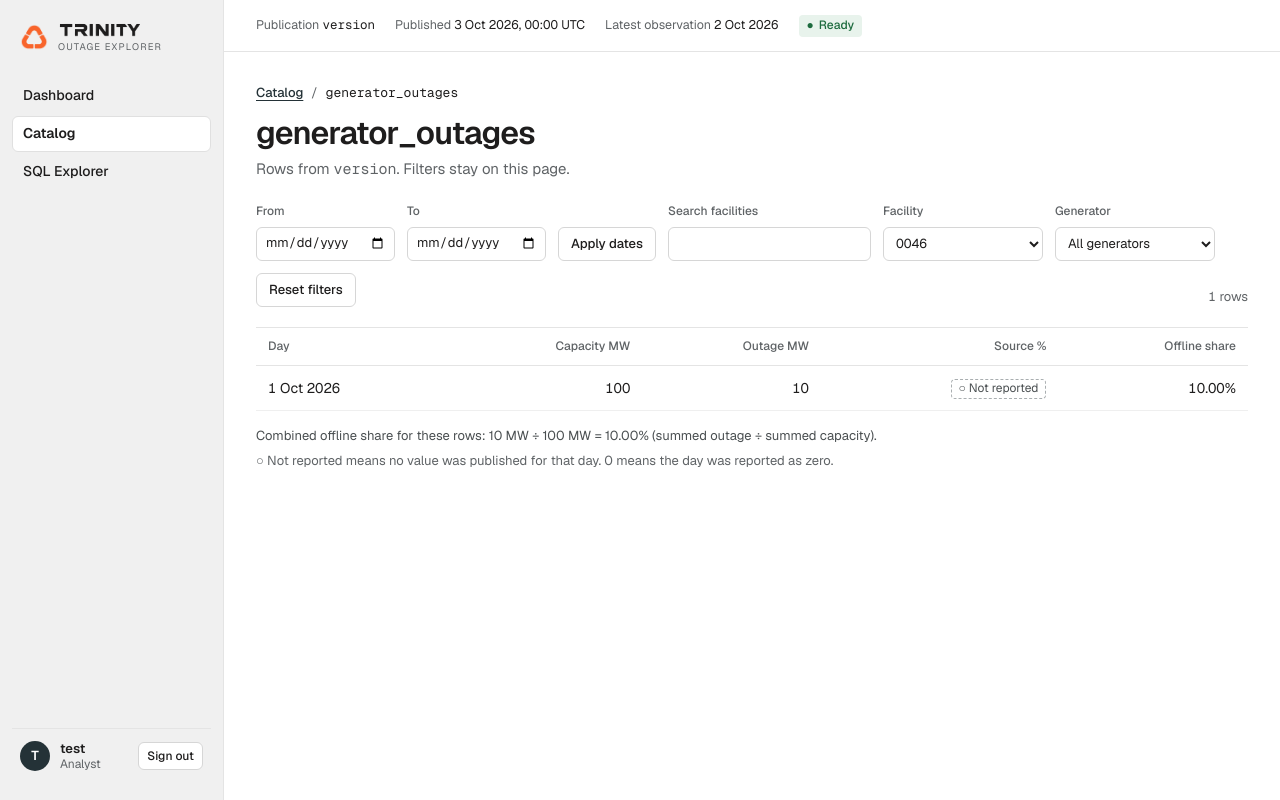
Test: Reset cancels pending debounce, clears linked filters, and leaves unopened generator choices lazy
Expected: the text "Combined offline share for these rows: 10 MW ÷ 100 MW = 10.00% (summed outage ÷ summed capacity)." is shown, left=256, top=427, right=877, bottom=444
Expected: the dropdown labelled "Facility" shows "0046", left=883, top=227, right=1043, bottom=261
Focus the search field labelled "Search facilities". click: (769, 244)
box: left=668, top=227, right=871, bottom=261
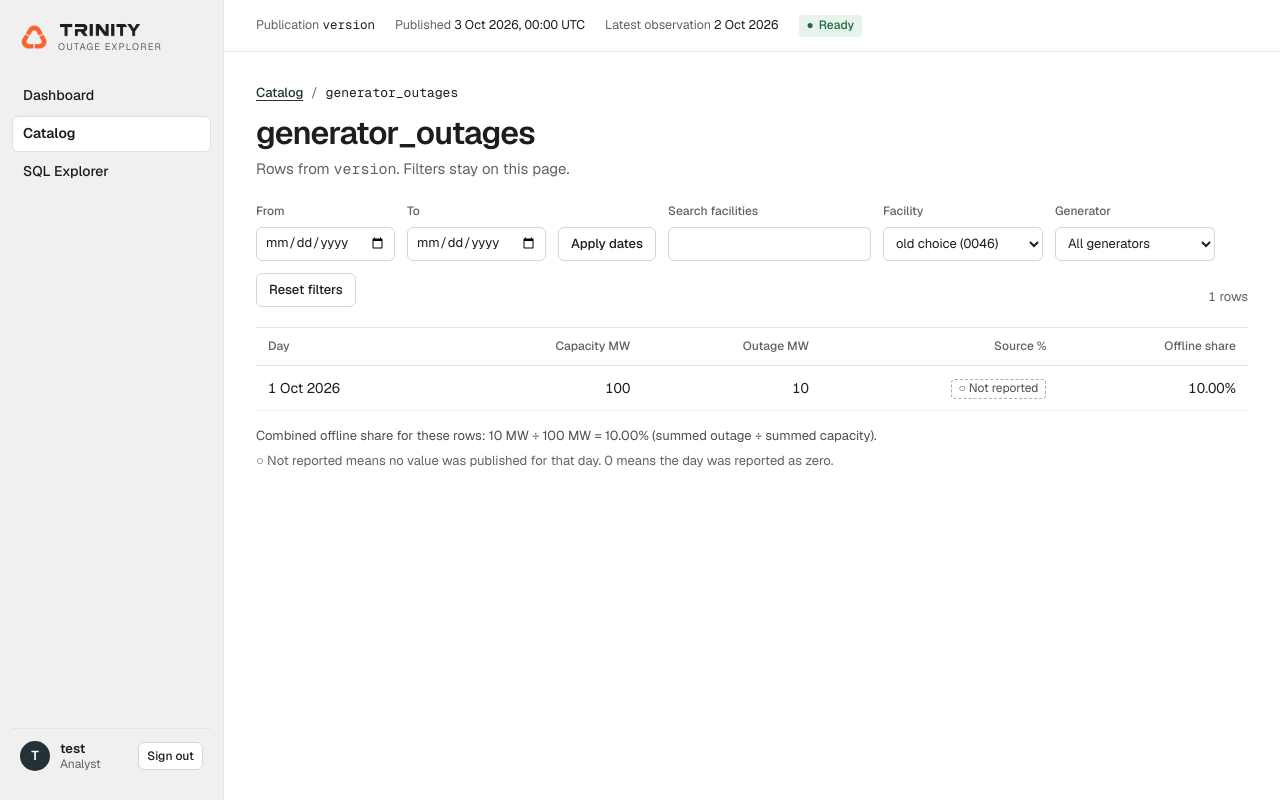
Type "old search" into the search field labelled "Search facilities". click: (769, 244)
box: left=668, top=227, right=871, bottom=261
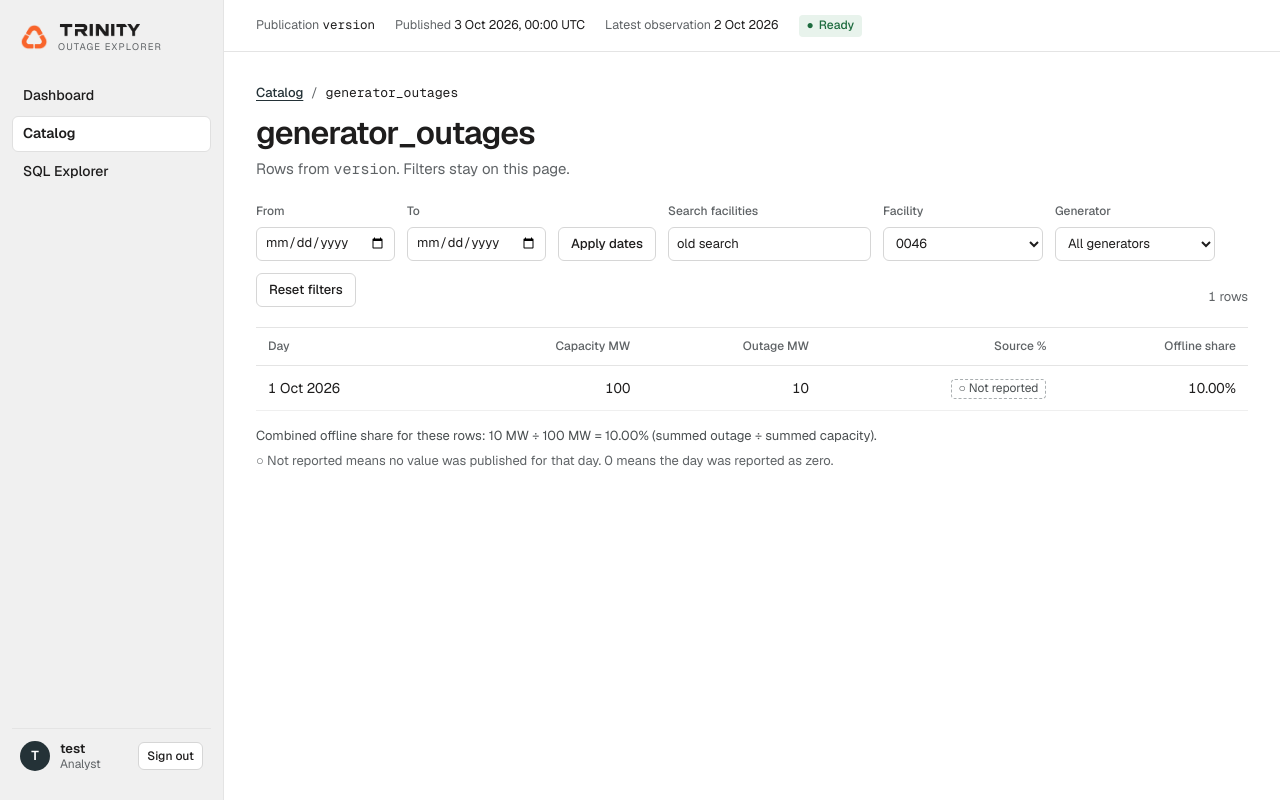
Type "2026-01-01" into the date field labelled "From". click: (326, 244)
box: left=256, top=227, right=395, bottom=261
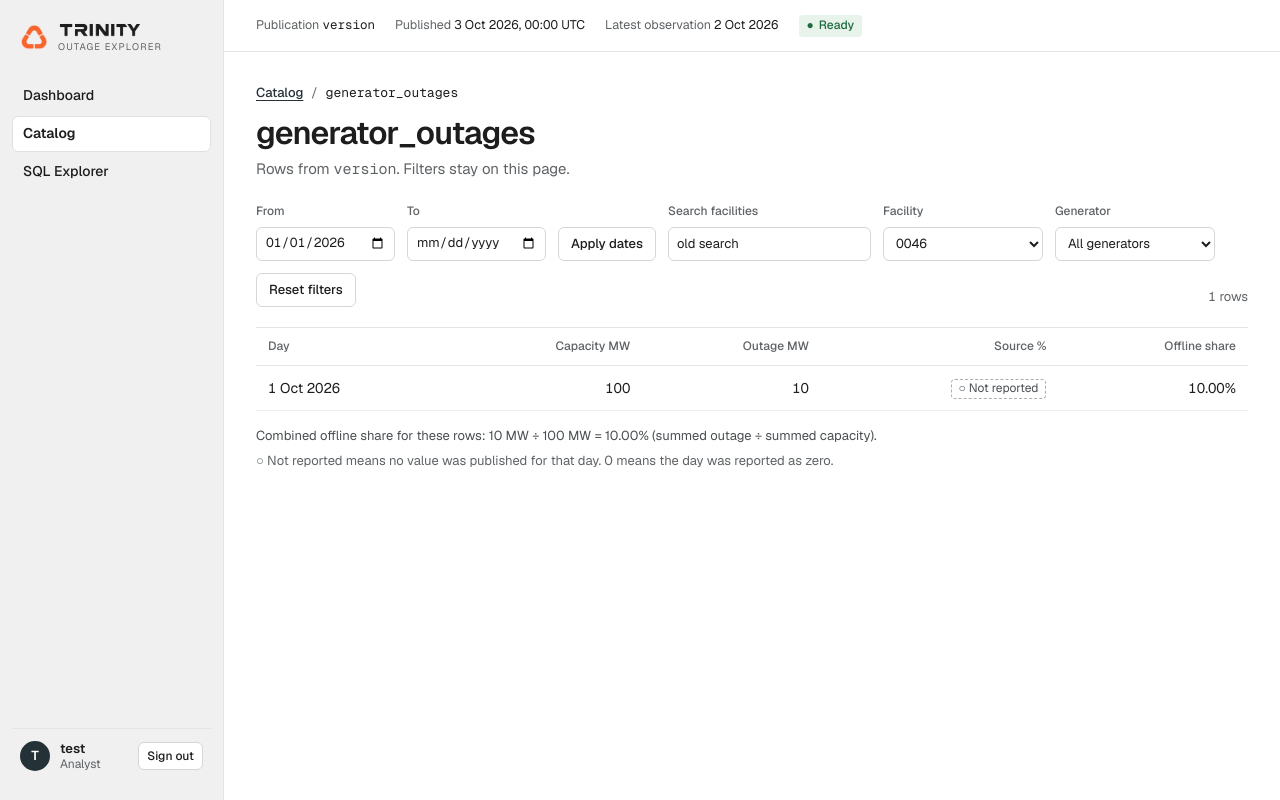
Click the button "Reset filters". click: (306, 290)
box: left=256, top=273, right=356, bottom=307
Wait 500 ms
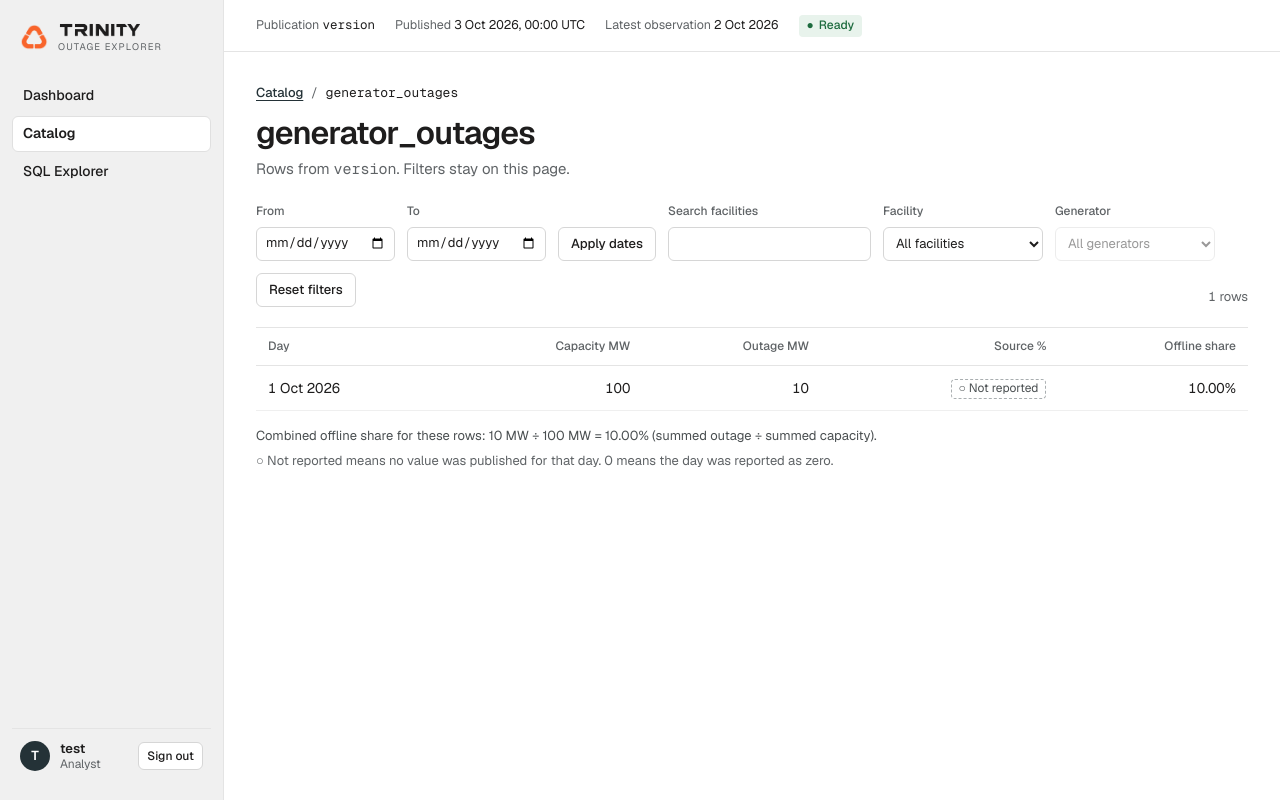
Now the search field labelled "Search facilities" is empty, box left=668, top=227, right=871, bottom=261
Now the dropdown labelled "Facility" shows "All facilities", box left=883, top=227, right=1043, bottom=261
Now the date field labelled "From" is empty, box left=256, top=227, right=395, bottom=261
